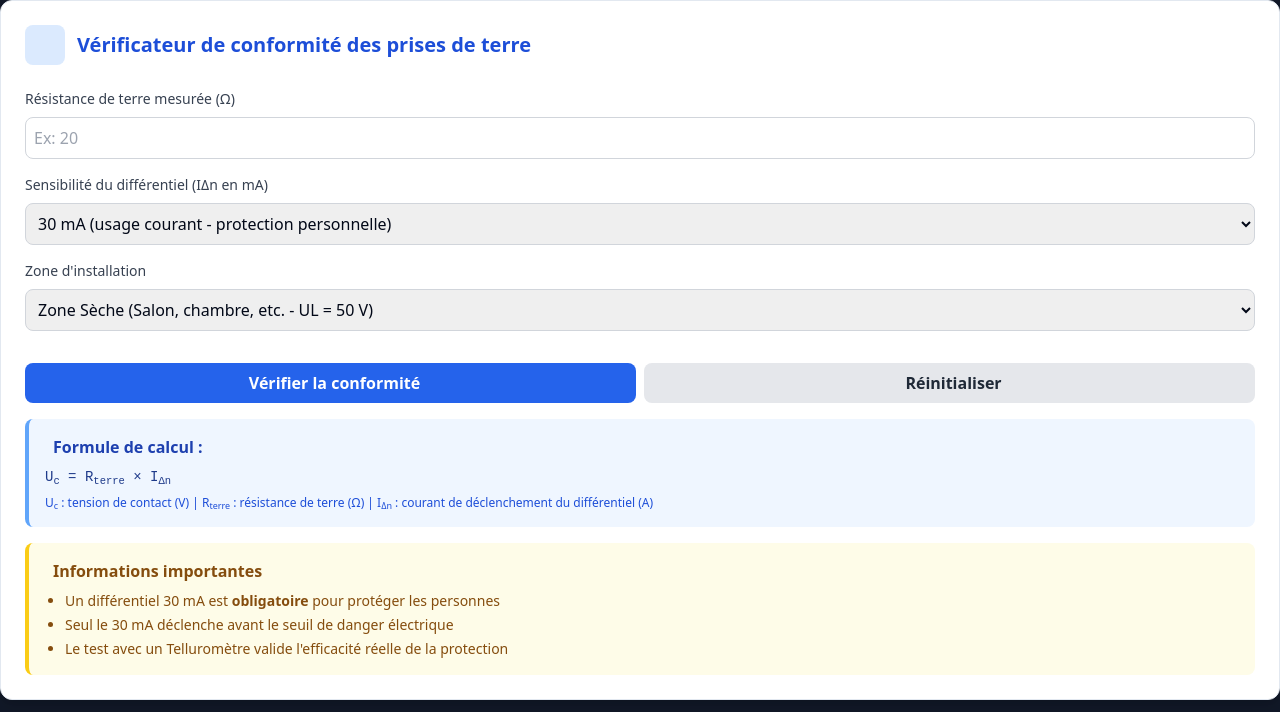
Test: EarthResistanceChecker › shows error for invalid input
Click the button "Vérifier la conformité". click: (330, 383)
box: [25, 363, 636, 403]
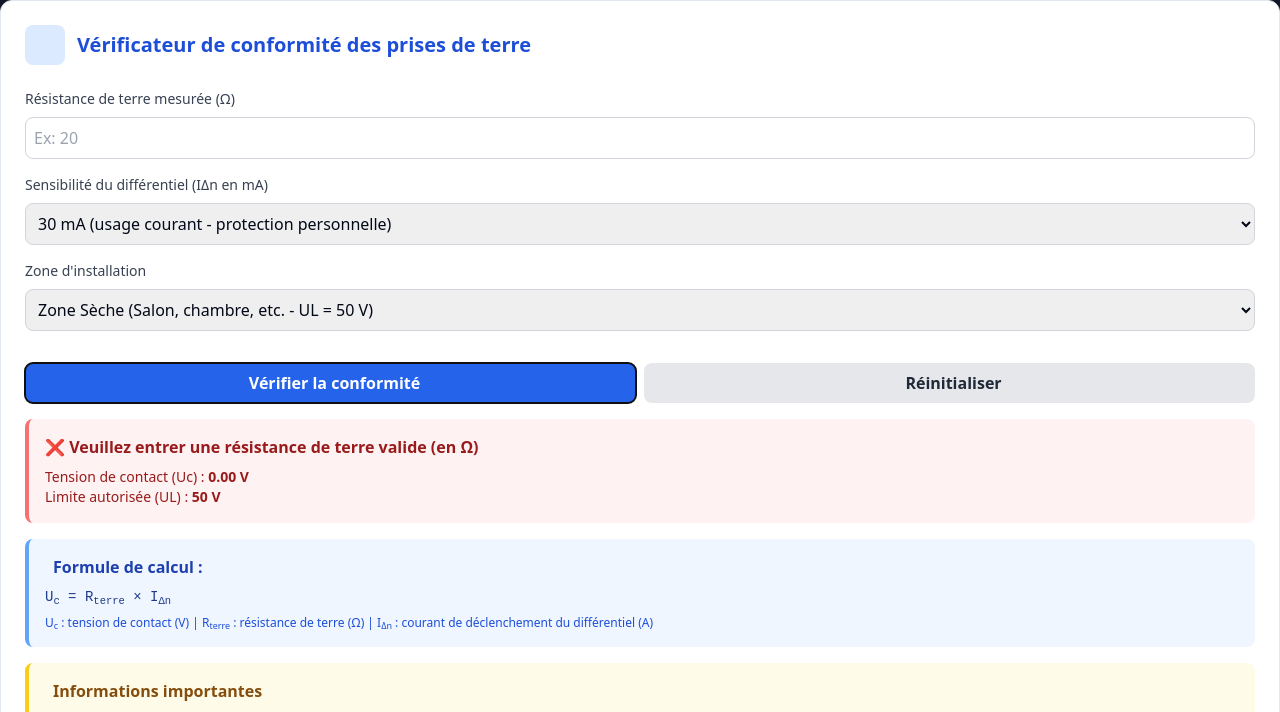
Expected: the text "❌ Veuillez entrer une résistance de terre valide (en Ω)" is shown, [45, 436, 478, 458]
